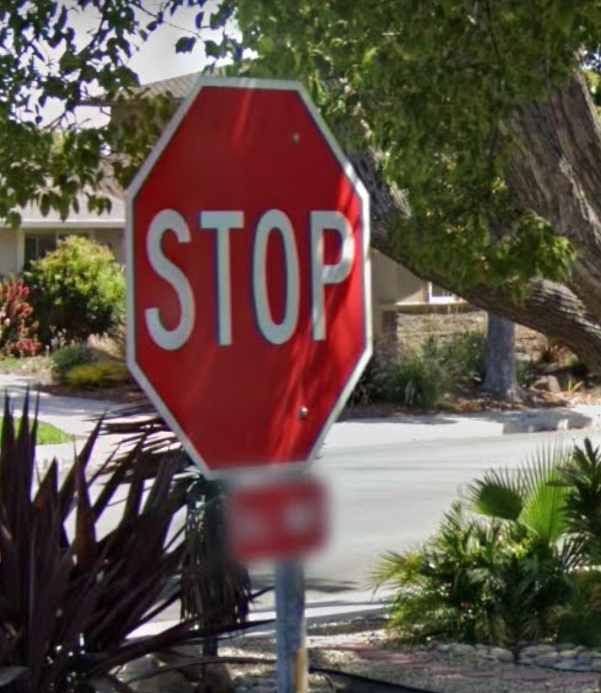stop_sign: (128, 87, 375, 477)
